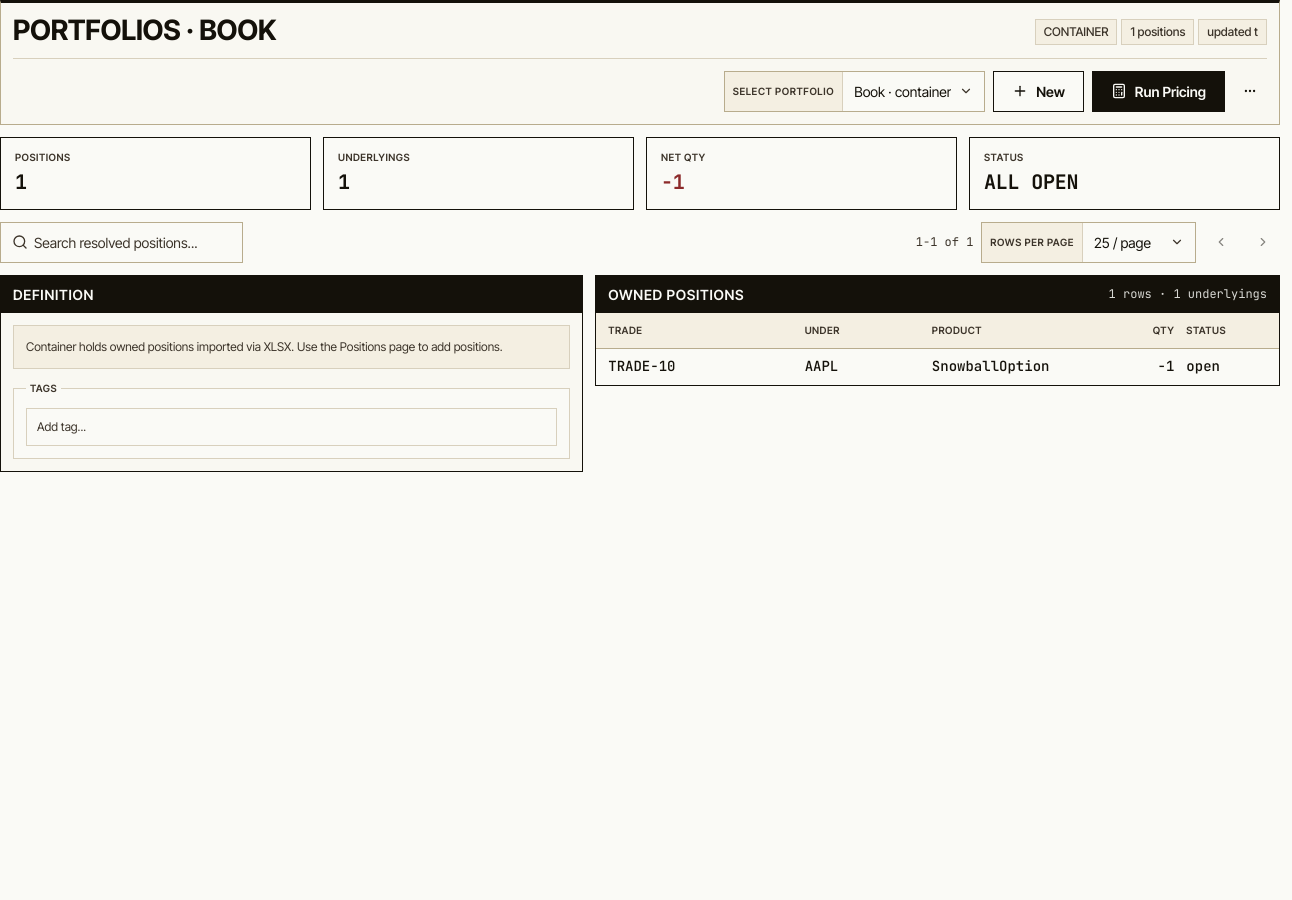
it: deduplicates resolved view preview rows across container and view details
Step 1. Select "Snow · view" in the dropdown labelled "Select portfolio" → (784, 91), box [725,72,843,111]
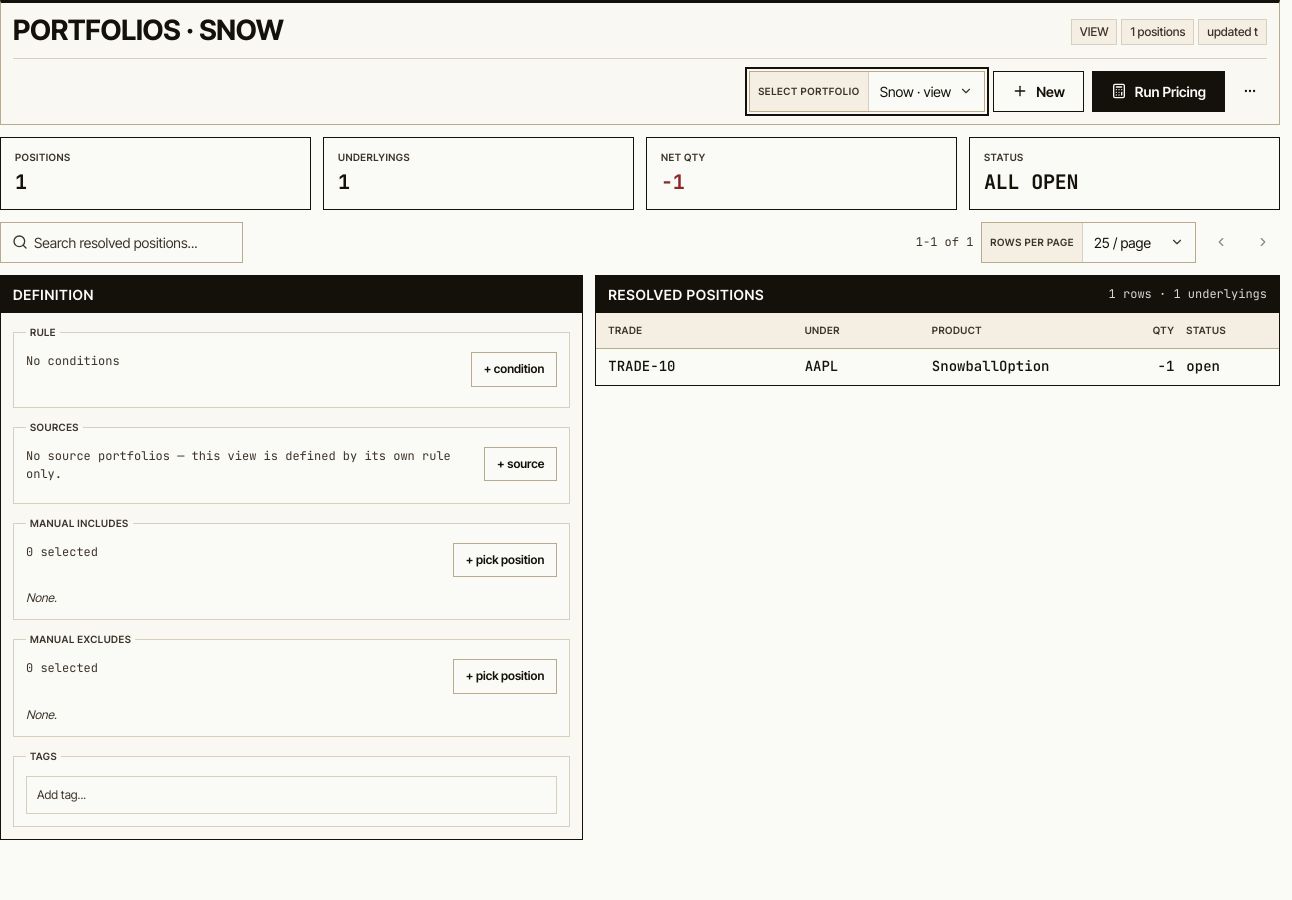
Check: the text "POSITIONS" is shown, box [15,151,70,163]
Check: the heading reads "PORTFOLIOS · Snow", box [13,13,284,47]
